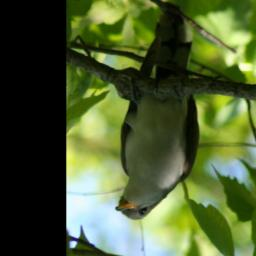Cuckoo: (115, 3, 201, 220)
